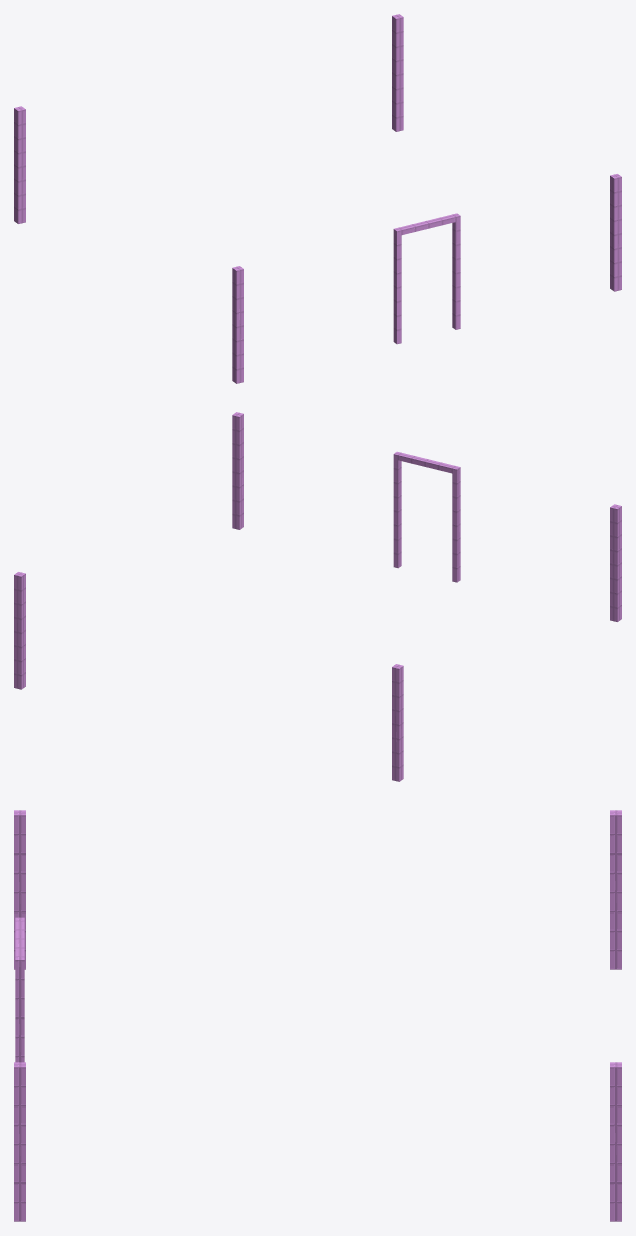
File: accent-5.glb
The picture shows the model from 3 angles, top to bottom: view 1: azimuth 30°, elevation 25°; view 2: azimuth 150°, elevation 25°; view 3: azimuth 270°, elevation 25°; orthographic projection. The views are drawn at different scales.
Parts seen in each view (by area): view 1: accent-5; view 2: accent-5; view 3: accent-5.
Part boxes in pixels (x1=…): accent-5: x1=14, y1=14, x2=621, y2=383; accent-5: x1=14, y1=412, x2=621, y2=781; accent-5: x1=14, y1=810, x2=621, y2=1221.
Size of the model in its own units: 14.28 by 4 by 14.28.
1 material, 1 textured.
